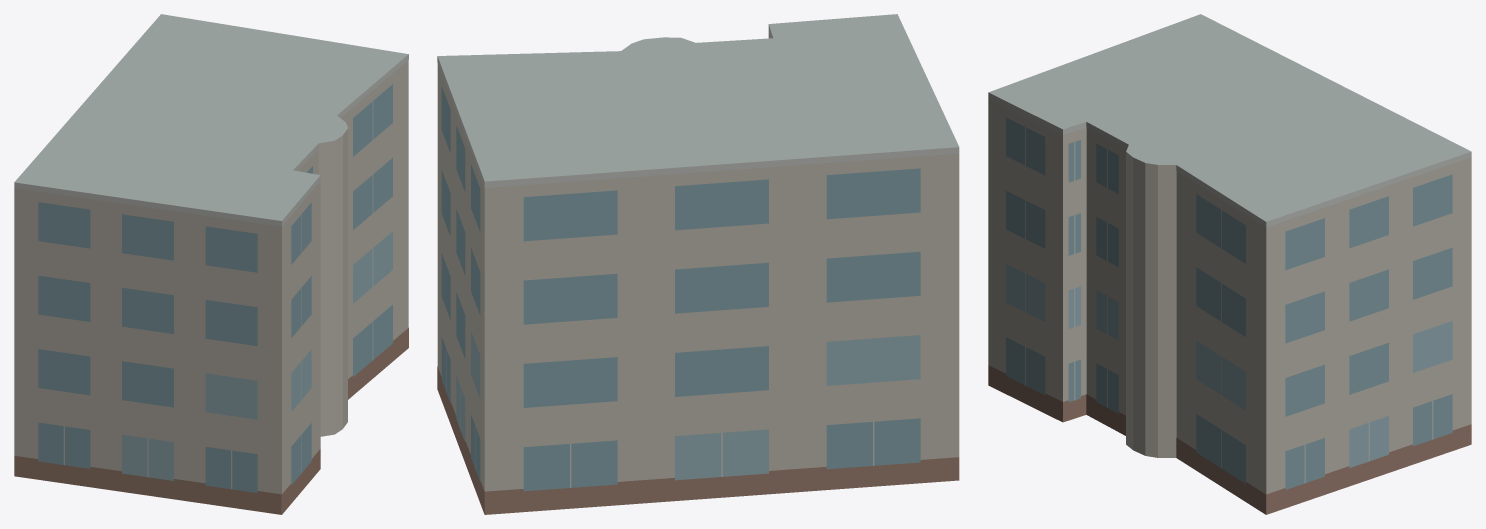
Rendered from survey-upis-32943008.glb.
The picture shows the model from 3 angles, left to right: view 1: azimuth 30°, elevation 25°; view 2: azimuth 150°, elevation 25°; view 3: azimuth 270°, elevation 25°; orthographic projection. The views are drawn at different scales.
Parts seen in each view (by area): view 1: survey-upis-32943008.tmp; view 2: survey-upis-32943008.tmp; view 3: survey-upis-32943008.tmp.
Boxes of the visible parts, <box> form: survey-upis-32943008.tmp: <box>14,14,408,514</box>; survey-upis-32943008.tmp: <box>437,14,959,514</box>; survey-upis-32943008.tmp: <box>988,14,1471,514</box>.
Size of the model in its own units: 19.49 by 12.8 by 19.14.
